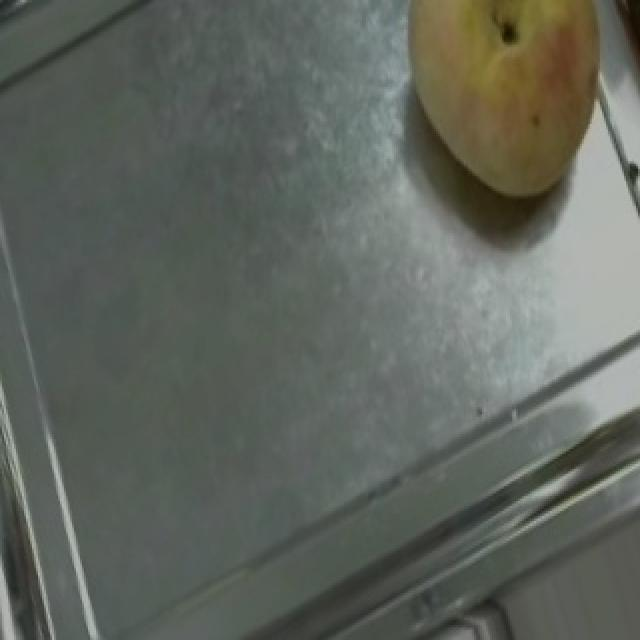Fruit: (366, 0, 640, 231)
